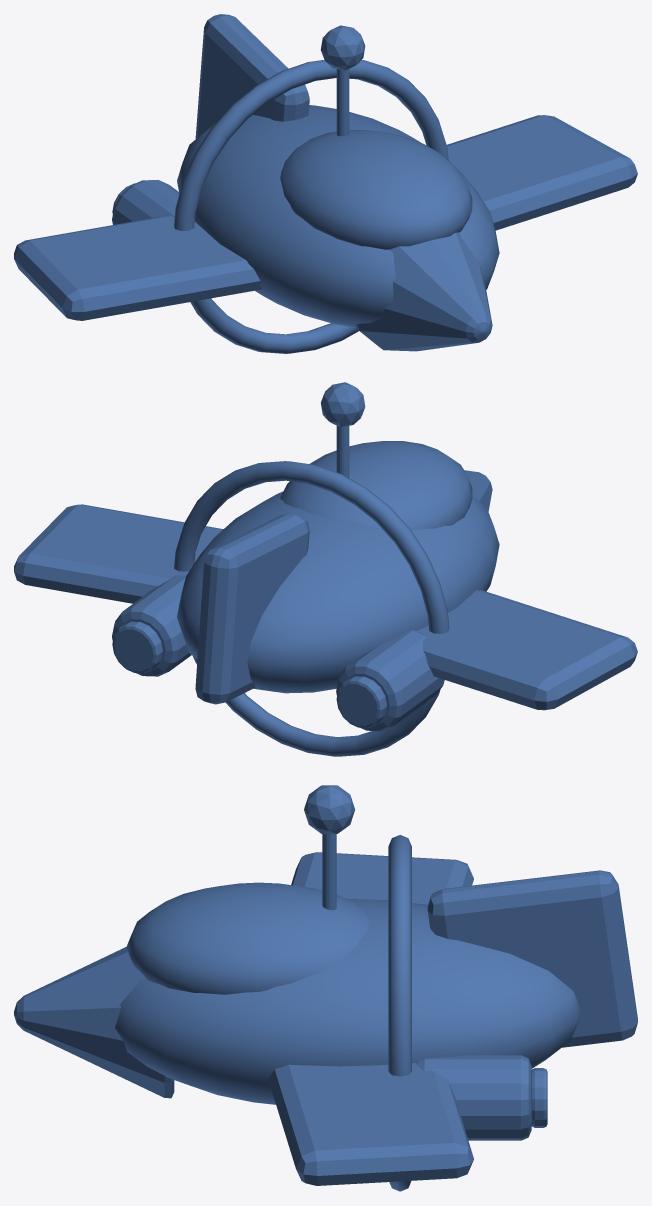
Rendered from aurora_drone.glb.
The picture shows the model from 3 angles, top to bottom: view 1: azimuth 30°, elevation 25°; view 2: azimuth 150°, elevation 25°; view 3: azimuth 270°, elevation 25°; orthographic projection. The views are drawn at different scales.
Visible parts, largest first — view 1: aurora_drone_MobileMesh; view 2: aurora_drone_MobileMesh; view 3: aurora_drone_MobileMesh.
Boxes of the visible parts, bbox=[...] form: aurora_drone_MobileMesh: bbox=[14, 14, 637, 353]; aurora_drone_MobileMesh: bbox=[14, 382, 637, 756]; aurora_drone_MobileMesh: bbox=[14, 785, 637, 1191].
Size of the model in its own units: 3.47 by 2 by 2.92.
